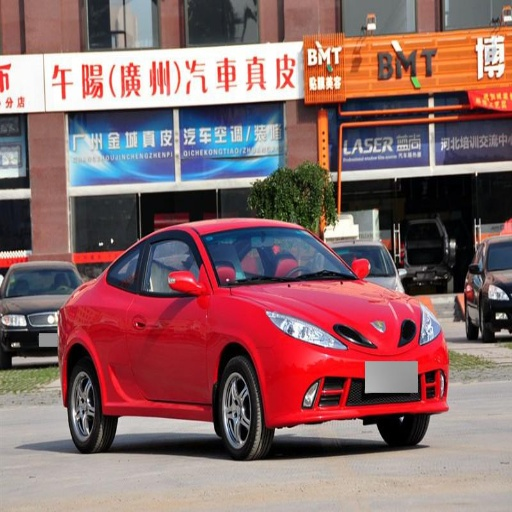front_bumper: (264, 367, 435, 419)
front_right_door: (139, 233, 210, 403)
